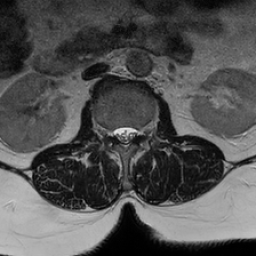CCS_normal: (121, 117, 129, 153)
LFS_stenosis: (137, 118, 146, 144)
LLS_normal: (129, 118, 137, 144)
RFS_normal: (105, 121, 113, 142)
RLS_normal: (113, 120, 121, 144)
